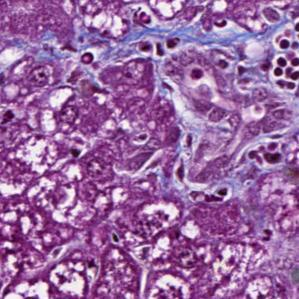inflammation: (130, 29, 191, 61), (243, 134, 290, 170)
